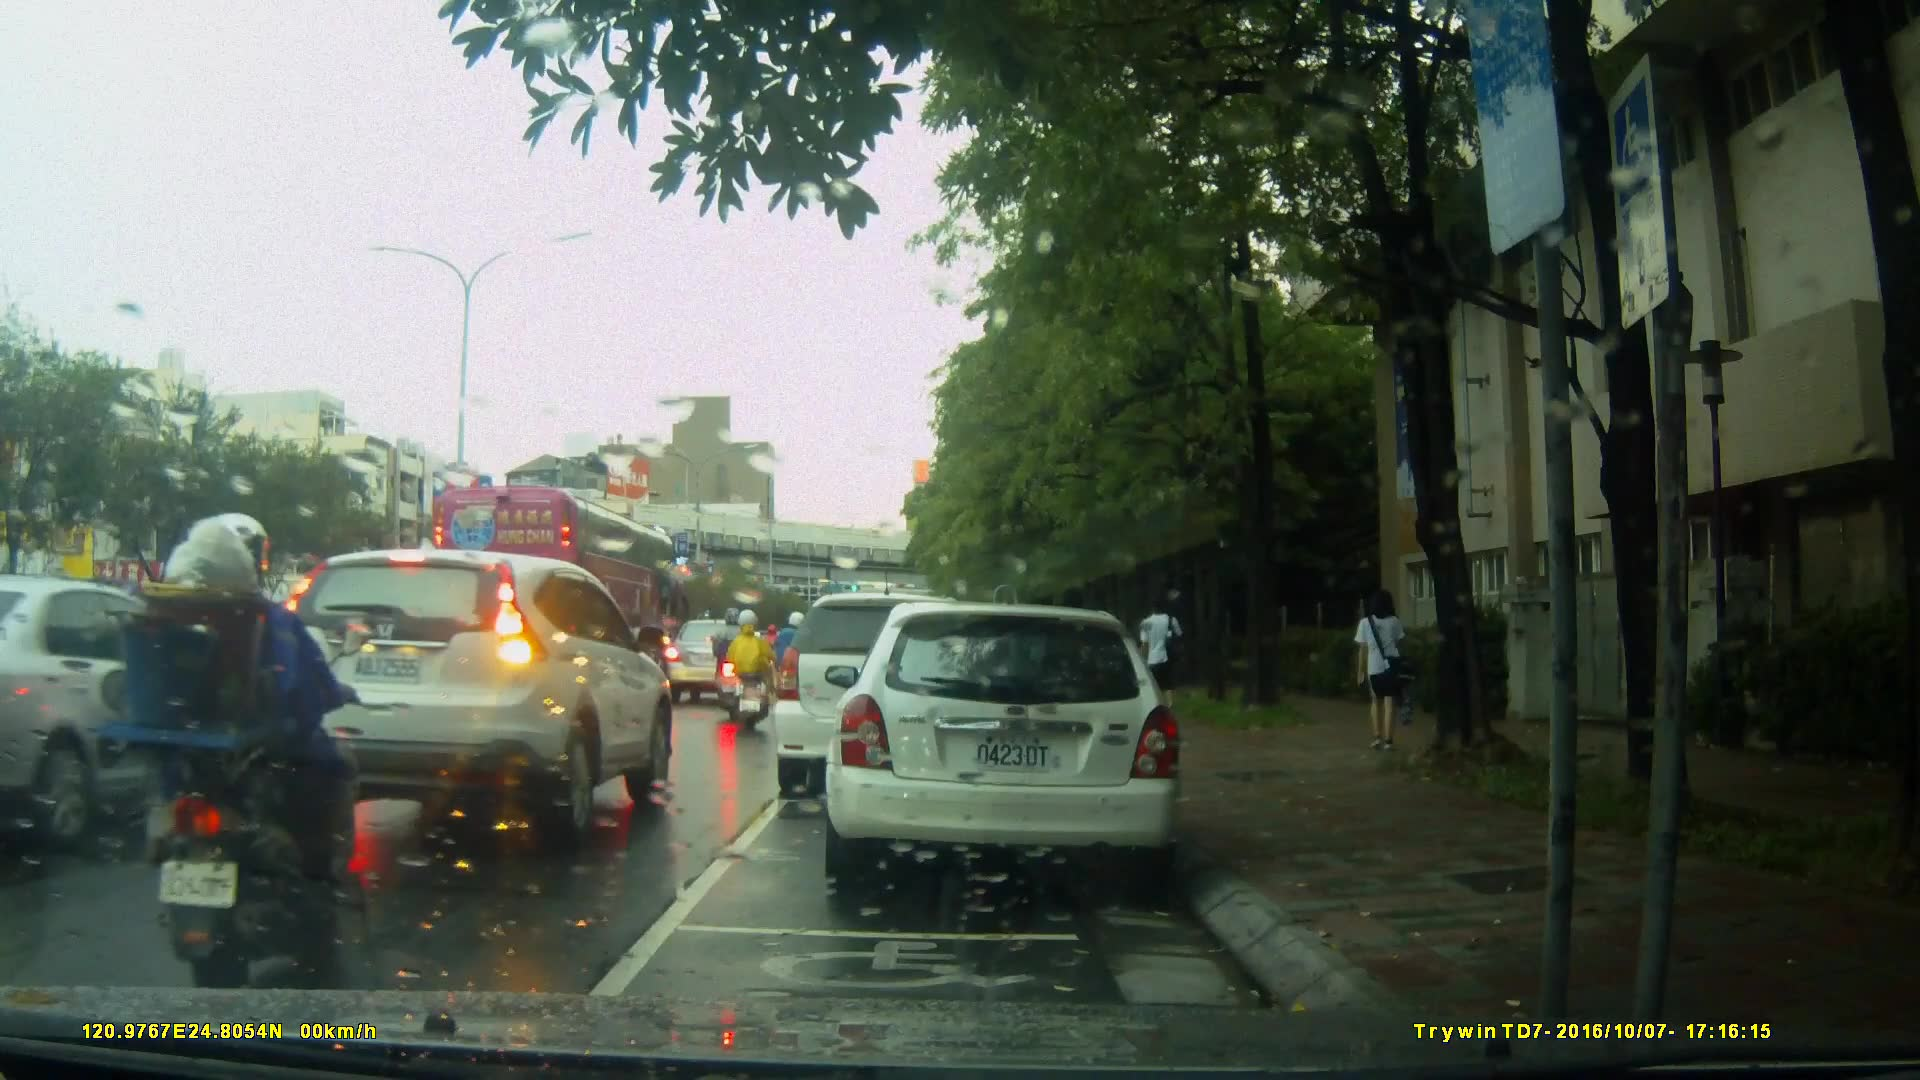pedestrian: (1341, 582, 1421, 770), (1137, 593, 1185, 718)
rider: (116, 513, 373, 993), (726, 608, 774, 735), (710, 601, 760, 717), (774, 605, 813, 708)
vehicle: (270, 547, 679, 842), (835, 594, 1194, 898), (427, 485, 698, 671), (776, 590, 1026, 784), (661, 616, 766, 704)
